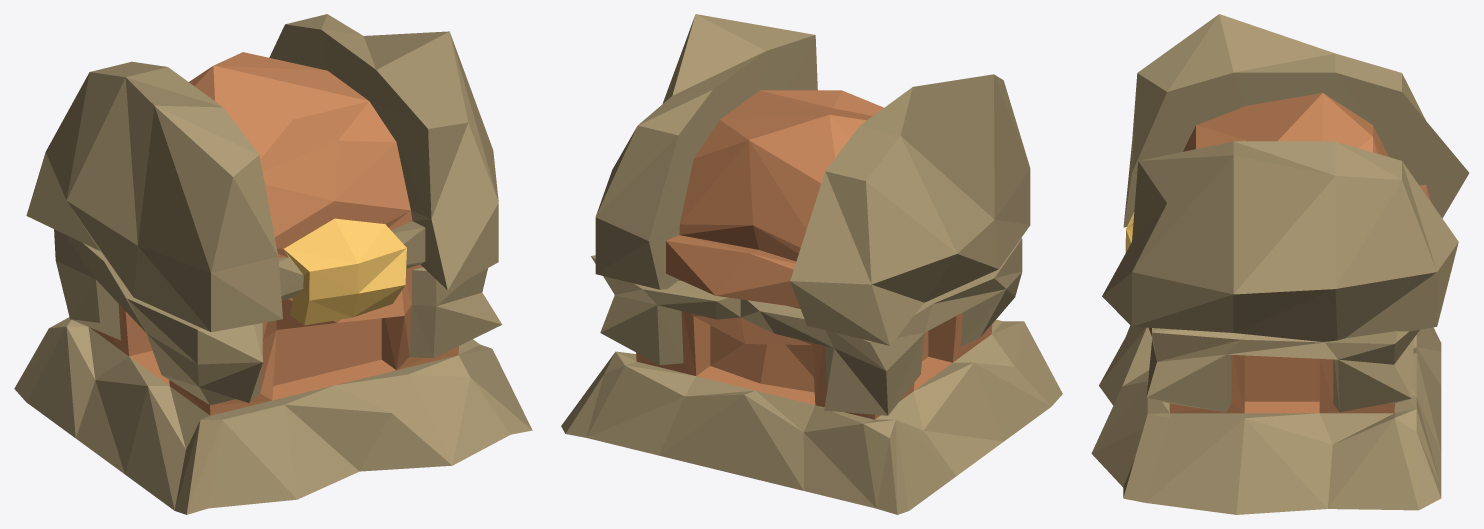
Rendered from chest0506.FBX.
3 views of the same model, side by side, from view 1: azimuth 30°, elevation 25°; view 2: azimuth 150°, elevation 25°; view 3: azimuth 270°, elevation 25° (orthographic). The views are drawn at different scales.
Parts seen in each view (by area): view 1: Box003, Box002; view 2: Box003, Box002; view 3: Box003, Box002.
Part boxes in pixels (box(x1,y1,x2,y2)): Box003: box(26, 14, 498, 332); Box002: box(14, 229, 532, 514); Box003: box(595, 14, 1030, 345); Box002: box(561, 238, 1062, 514); Box003: box(1102, 14, 1469, 341); Box002: box(1091, 325, 1441, 514).
Bounding box in the file's own units: 41.74 × 39.16 × 39.23.
Materials: 1 (1 with a texture image).
